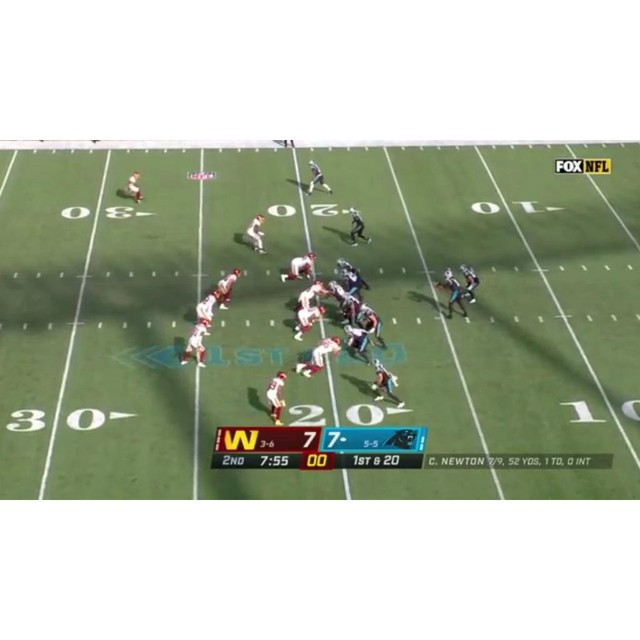american-football-player: (295, 336, 341, 380), (433, 269, 470, 321), (370, 358, 404, 408), (179, 318, 211, 368), (357, 302, 388, 350), (292, 305, 327, 342), (336, 258, 369, 297), (343, 324, 373, 366), (266, 371, 288, 425), (280, 252, 317, 283), (345, 207, 372, 247), (292, 281, 323, 315), (217, 268, 242, 310), (196, 288, 224, 325), (306, 159, 333, 196), (245, 214, 268, 254), (459, 264, 481, 304), (123, 171, 144, 204)
